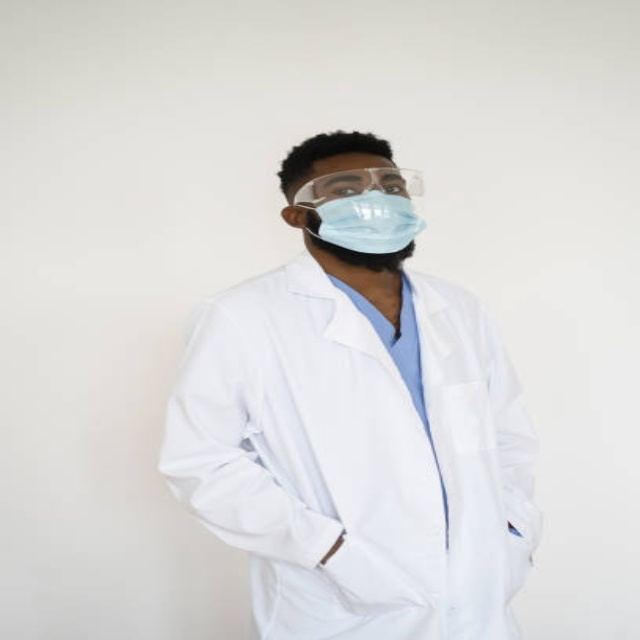Gafas: (290, 167, 426, 209)
Mascara: (308, 189, 424, 253)
